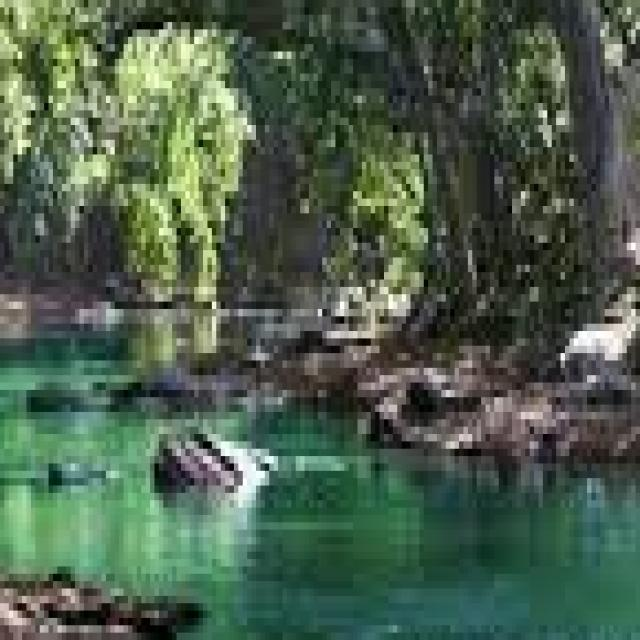-: (322, 507, 640, 640), (0, 486, 49, 537)
